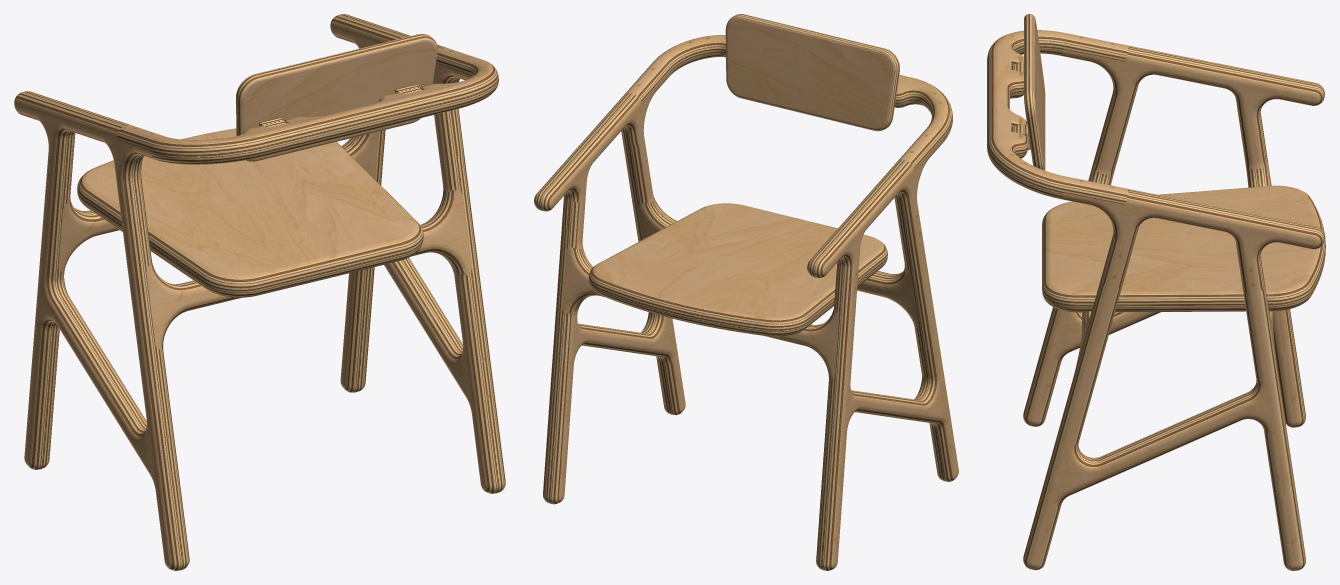
File: armchair.glb
3 renders of one model, left to right at view 1: azimuth 30°, elevation 25°; view 2: azimuth 150°, elevation 25°; view 3: azimuth 270°, elevation 25°, orthographic. The views are drawn at different scales.
Visible parts, largest first — view 1: Gazelle_Armchair; view 2: Gazelle_Armchair; view 3: Gazelle_Armchair.
Boxes of the visible parts, x1=… form: Gazelle_Armchair: x1=14, y1=14, x2=505, y2=570; Gazelle_Armchair: x1=534, y1=14, x2=958, y2=570; Gazelle_Armchair: x1=987, y1=14, x2=1325, y2=570.
Size of the model in its own units: 0.58 by 0.7878 by 0.5435.
Materials: 3 (2 with a texture image).
